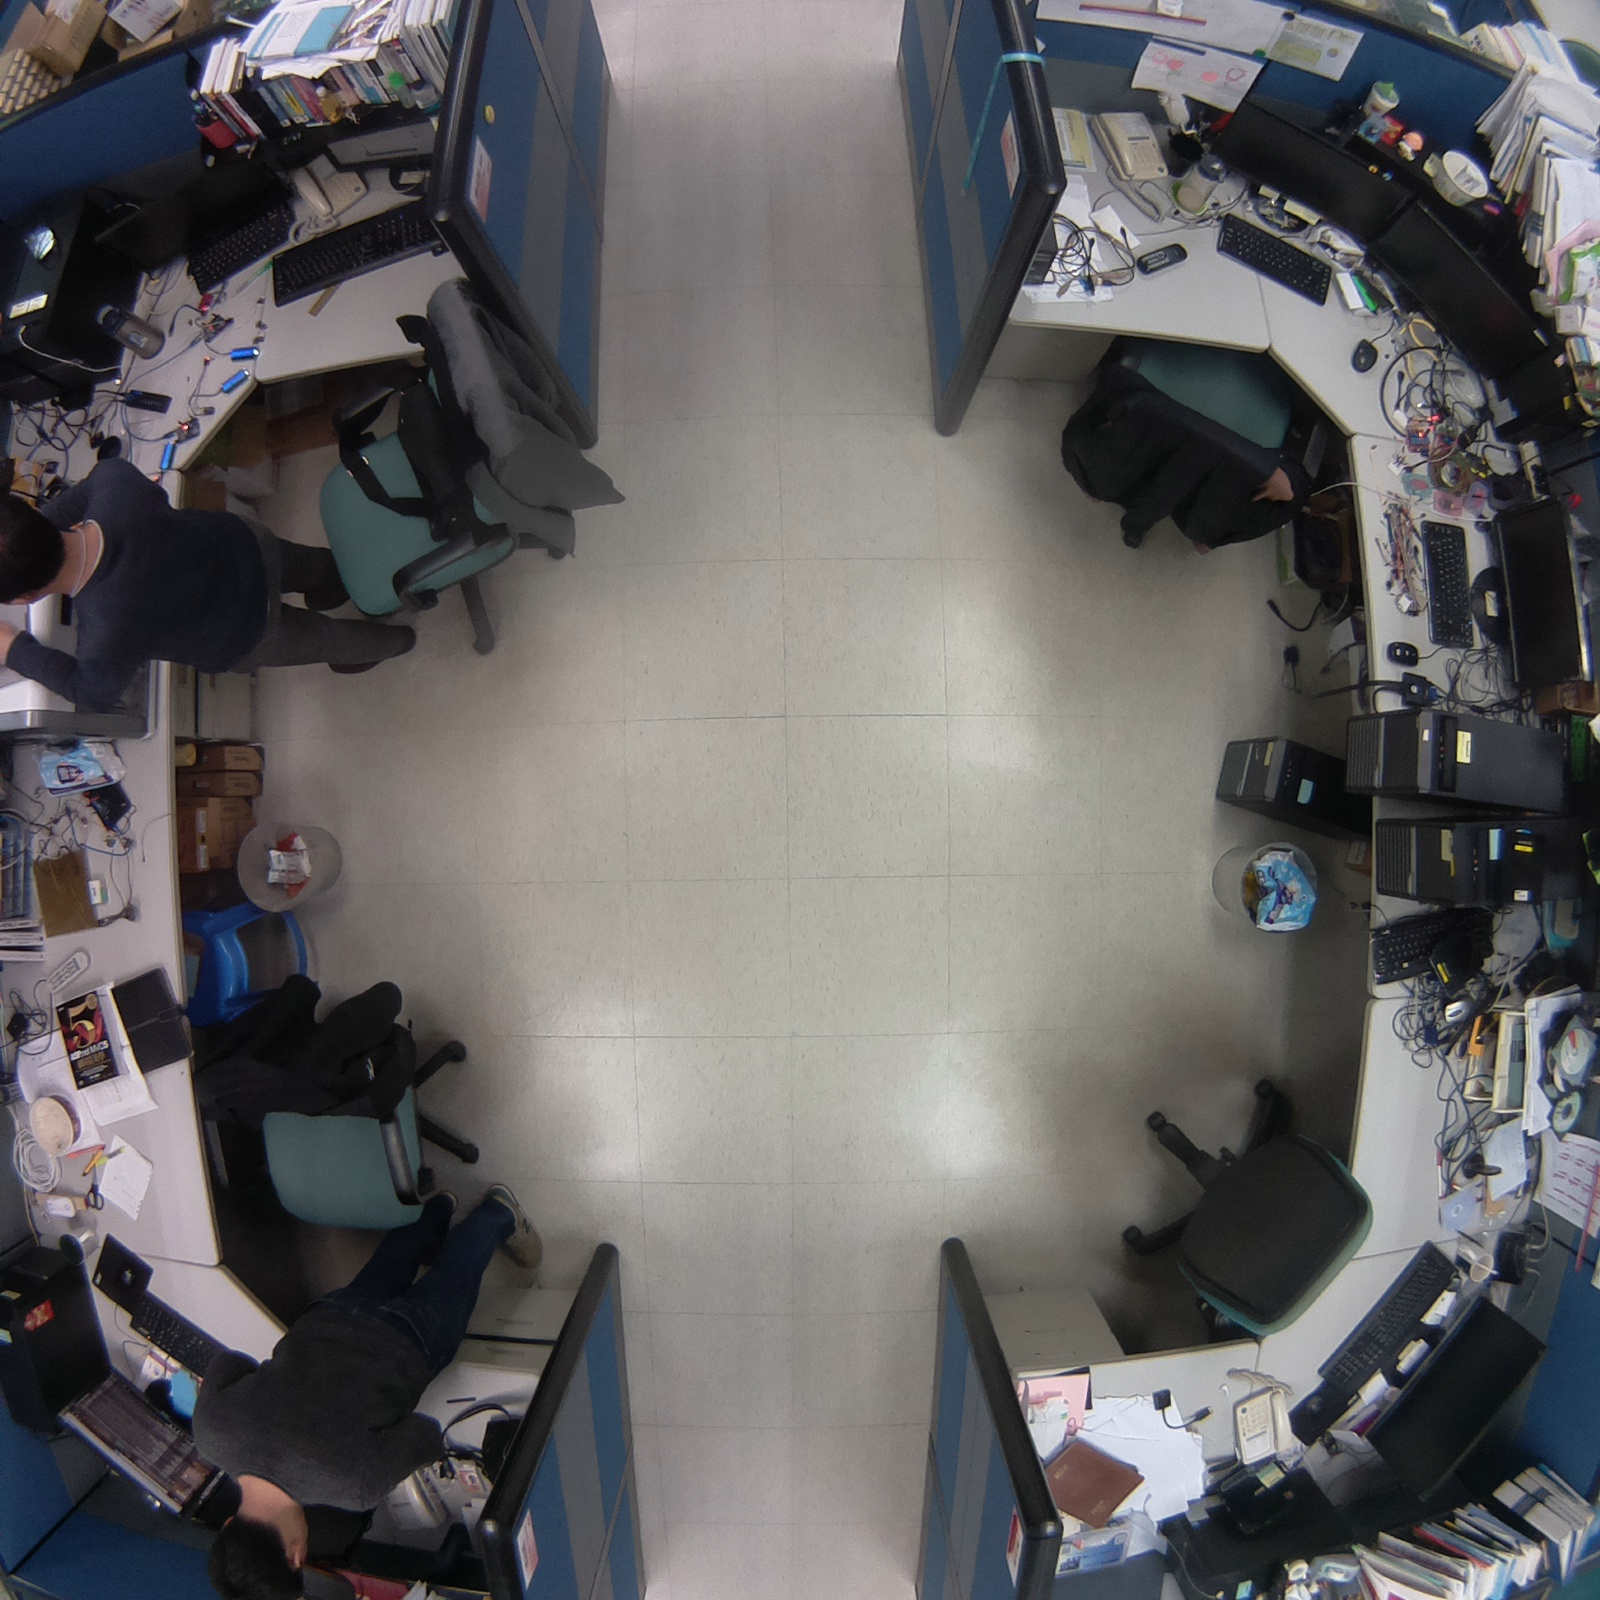chair: (278, 275, 627, 668), (178, 958, 501, 1247), (1099, 1052, 1383, 1358), (1050, 319, 1332, 578)
head: (1, 482, 72, 614)
standing: (174, 1155, 555, 1600), (1, 452, 424, 717)
